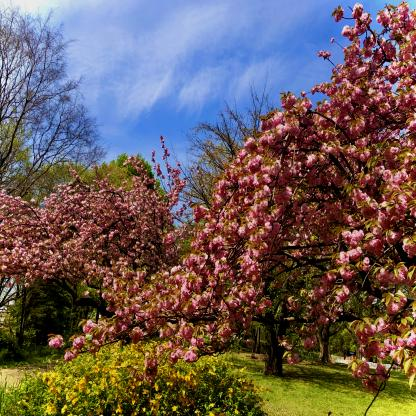YaeSakura: (44, 0, 416, 390), (0, 114, 188, 382), (207, 92, 318, 370)
